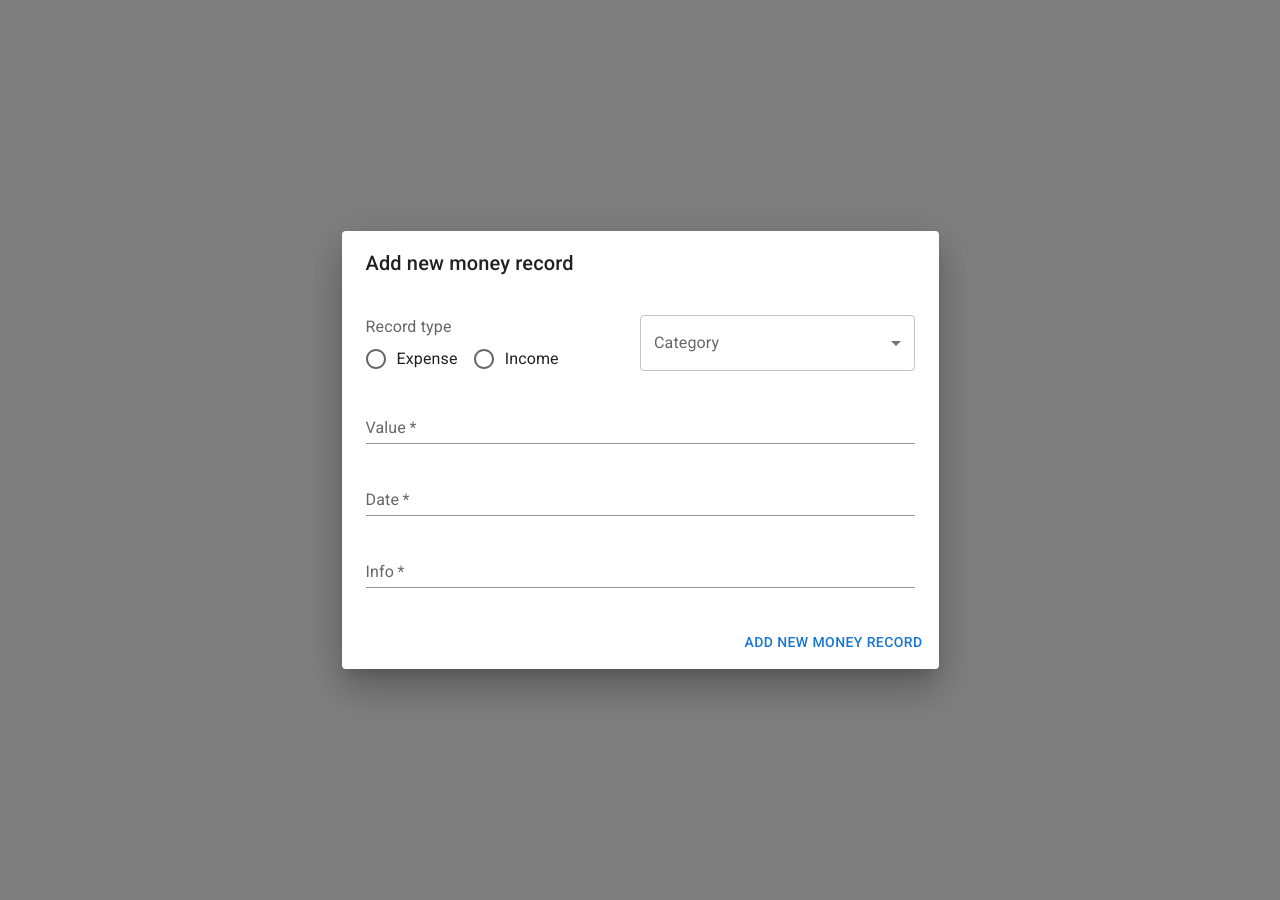
MoneyRecordForm › Form Validation › shows error when category not selected
The width and height of the screenshot is (1280, 900).
Type "50" into the field labelled "Value *".
click(640, 428); type("50")  # box 366,412 -> 914,444
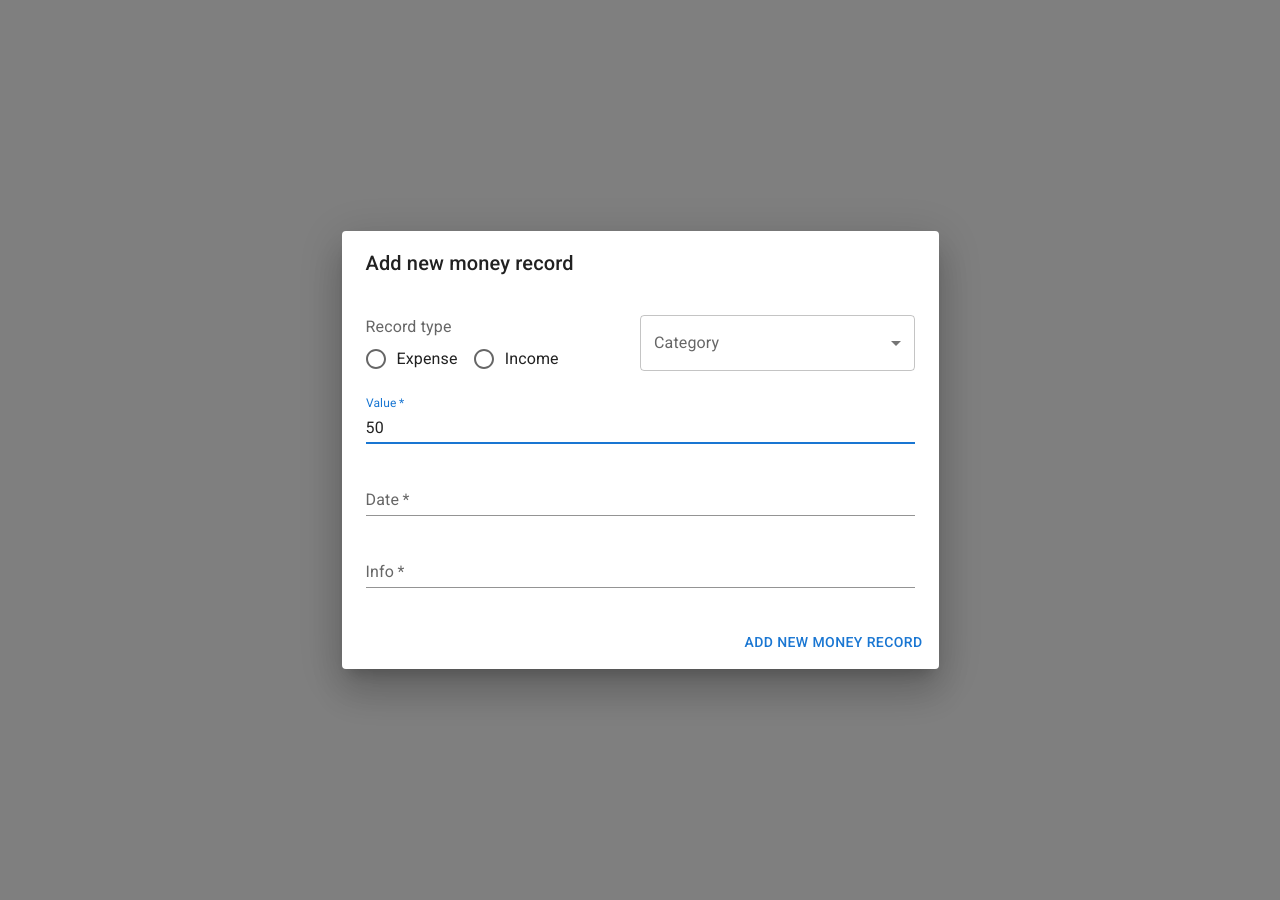
Type "2024-01-01" into the field labelled "Date *".
click(640, 500); type("2024-01-01")  # box 366,484 -> 914,516
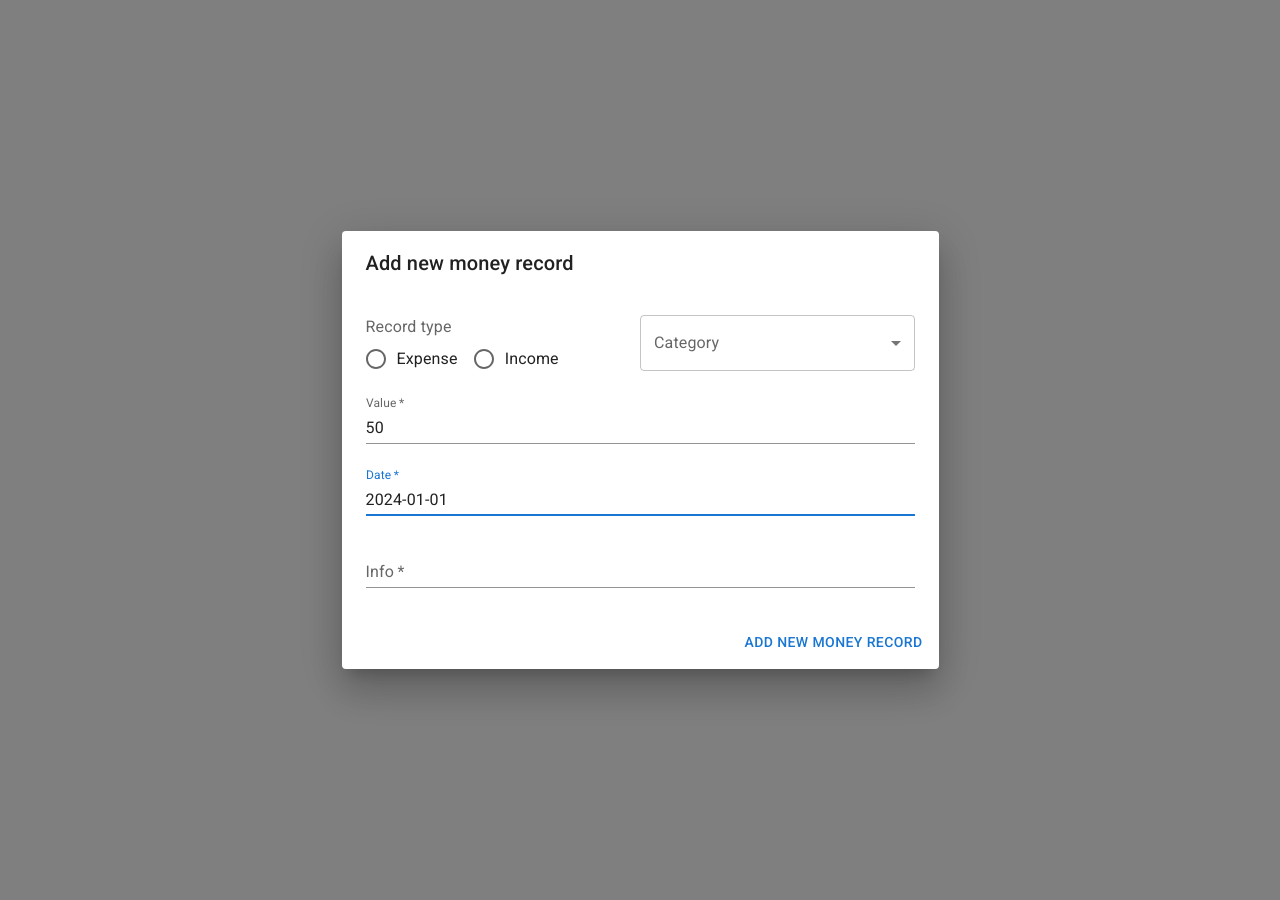
Type "Coffee" into the field labelled "Info *".
click(640, 572); type("Coffee")  # box 366,556 -> 914,588
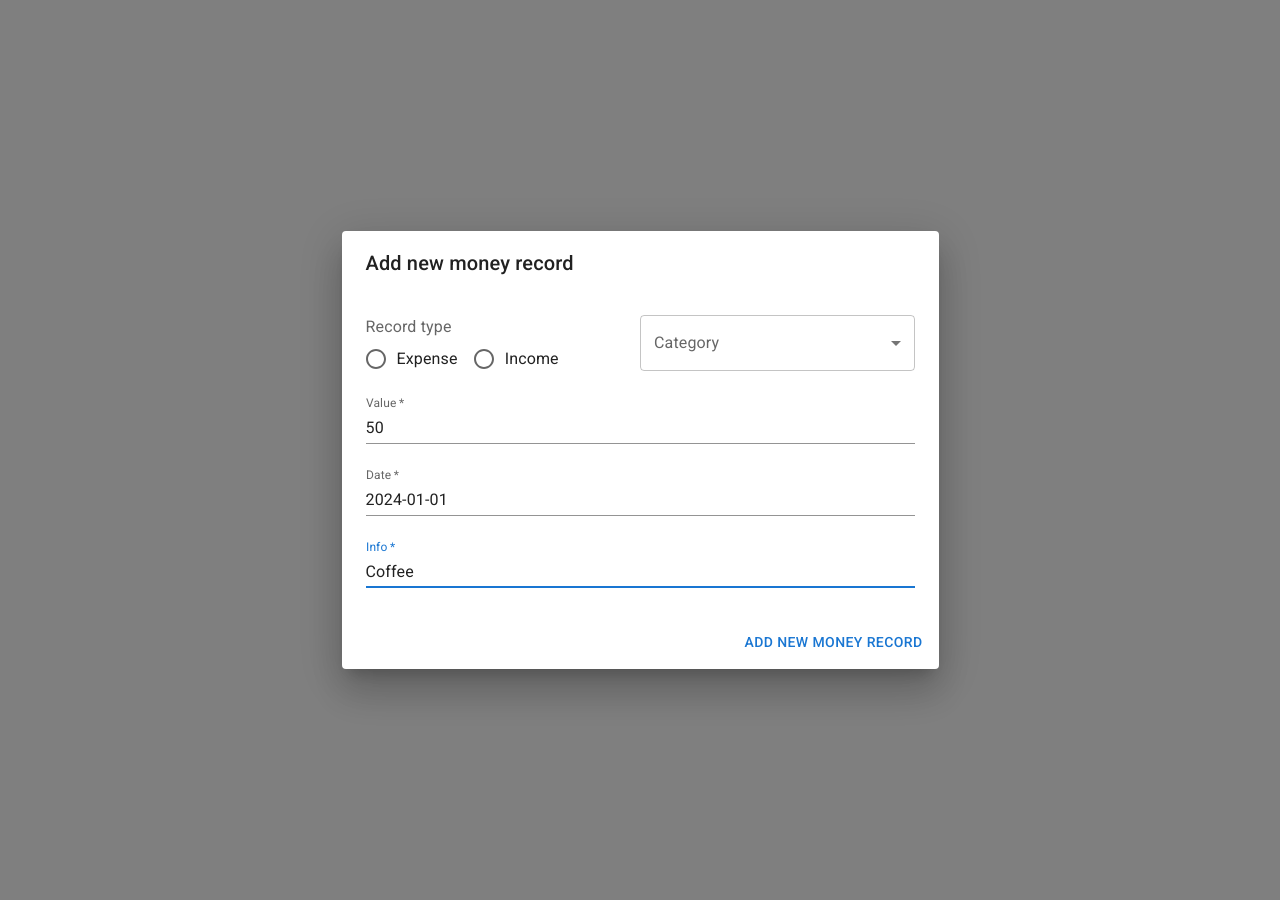
Click the button "Add new money record".
click(834, 643)  # box 737,624 -> 930,661
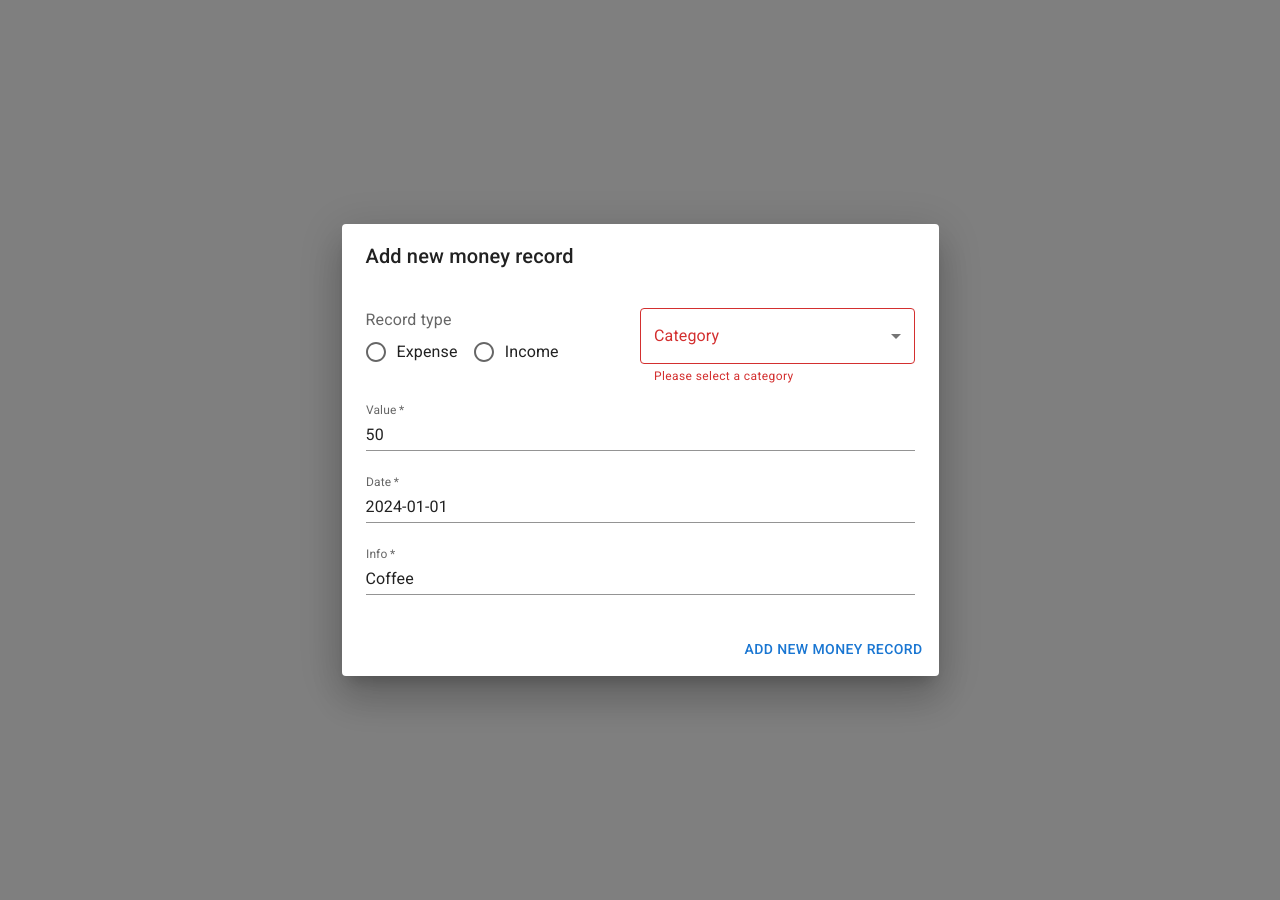
Expected: the text "Please select a category" is shown, 654,369 -> 794,383
